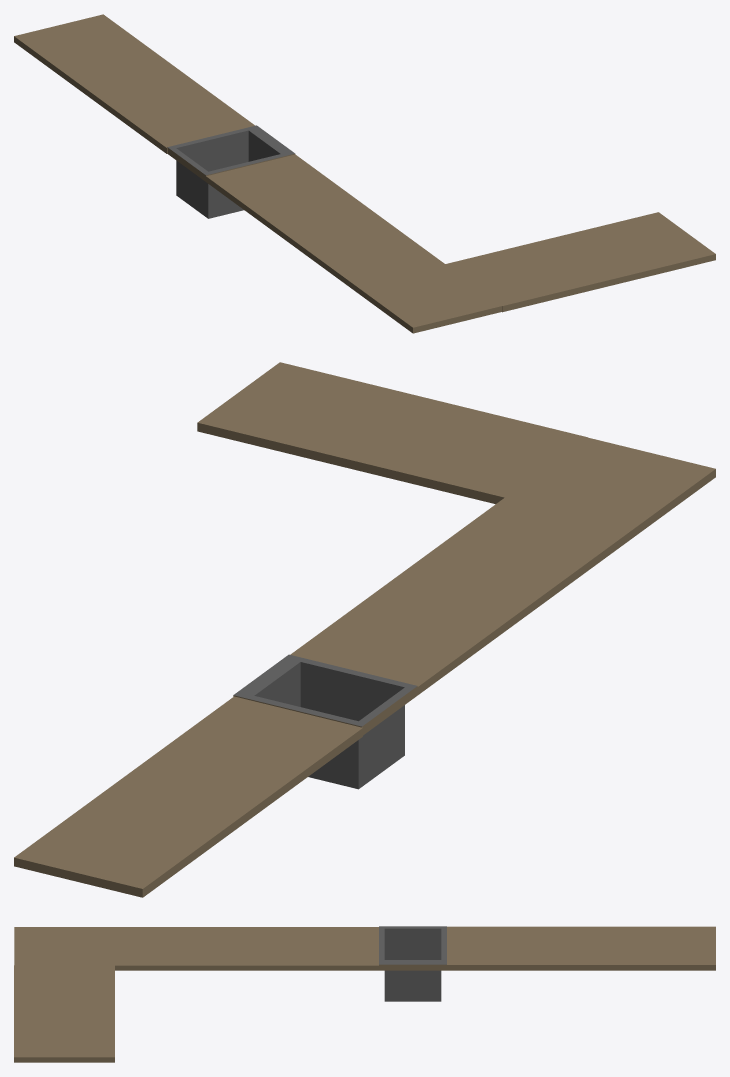
File: Lab Component Counters v6-29 1630.fbx
The picture shows the model from 3 angles, top to bottom: view 1: azimuth 30°, elevation 25°; view 2: azimuth 150°, elevation 25°; view 3: azimuth 270°, elevation 25°; orthographic projection. The views are drawn at different scales.
Visible parts, largest first — view 1: counter_top_1, counter_top_2, counter_top_2_1; view 2: counter_top_1, counter_top_2, counter_top_2_1; view 3: counter_top_1, counter_top_2, counter_top_2_1.
Boxes of the visible parts, x1,y1,x2,y2 form: counter_top_1: [167, 125, 501, 333]; counter_top_2: [14, 14, 254, 153]; counter_top_2_1: [445, 212, 715, 312]; counter_top_1: [233, 437, 715, 789]; counter_top_2: [14, 696, 362, 897]; counter_top_2_1: [197, 362, 587, 504]; counter_top_1: [14, 926, 446, 1001]; counter_top_2: [447, 926, 715, 970]; counter_top_2_1: [14, 965, 114, 1062].
Size of the model in its own units: 331 by 49.27 by 753.
